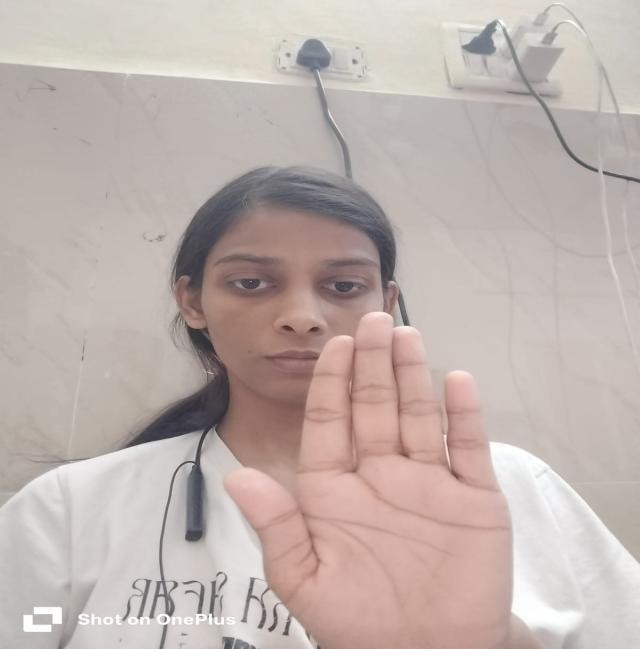Hello: (214, 299, 534, 649)
